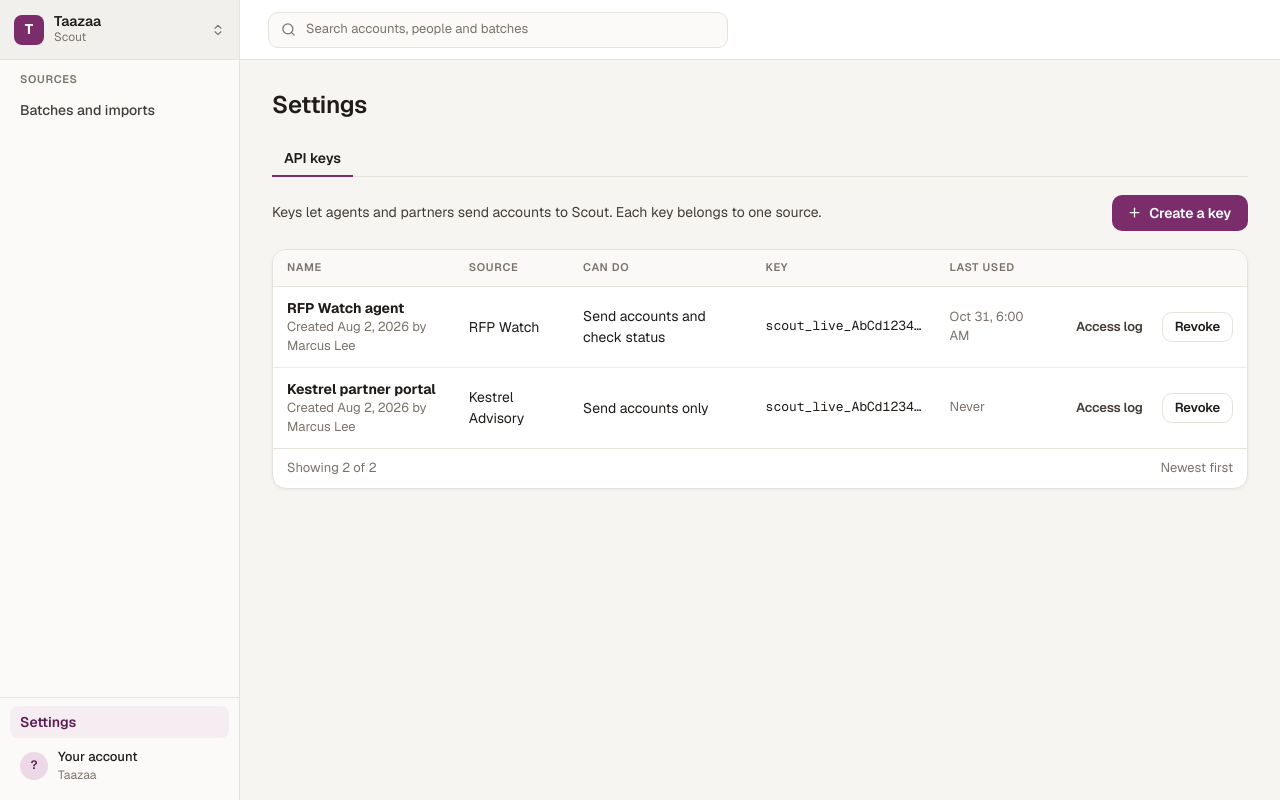
Scenario: revoke and access log › revokes after the confirm, and shows the failure
Click the button with aria-label "Revoke RFP Watch agent" at point(1197, 327), box [1162,312,1233,342]
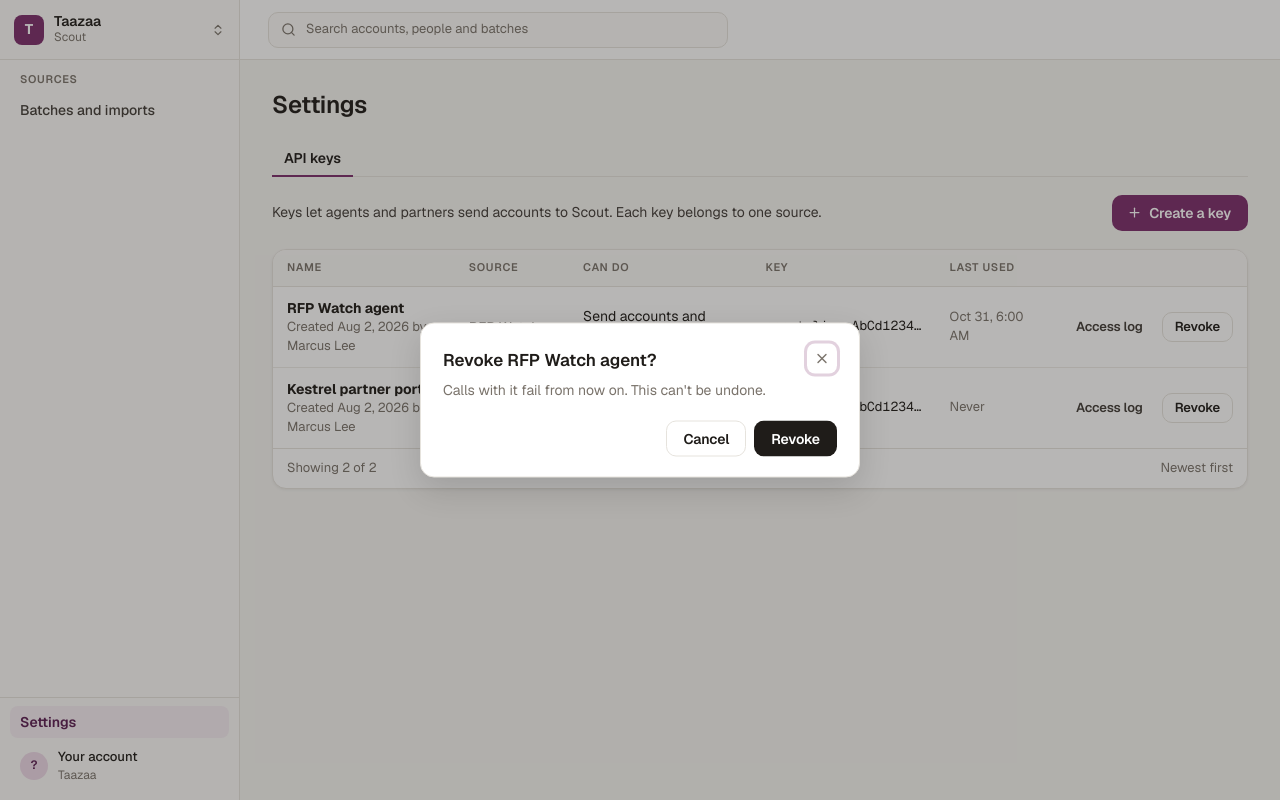
Click the button "Revoke" at point(796, 438), box [754,420,837,456]
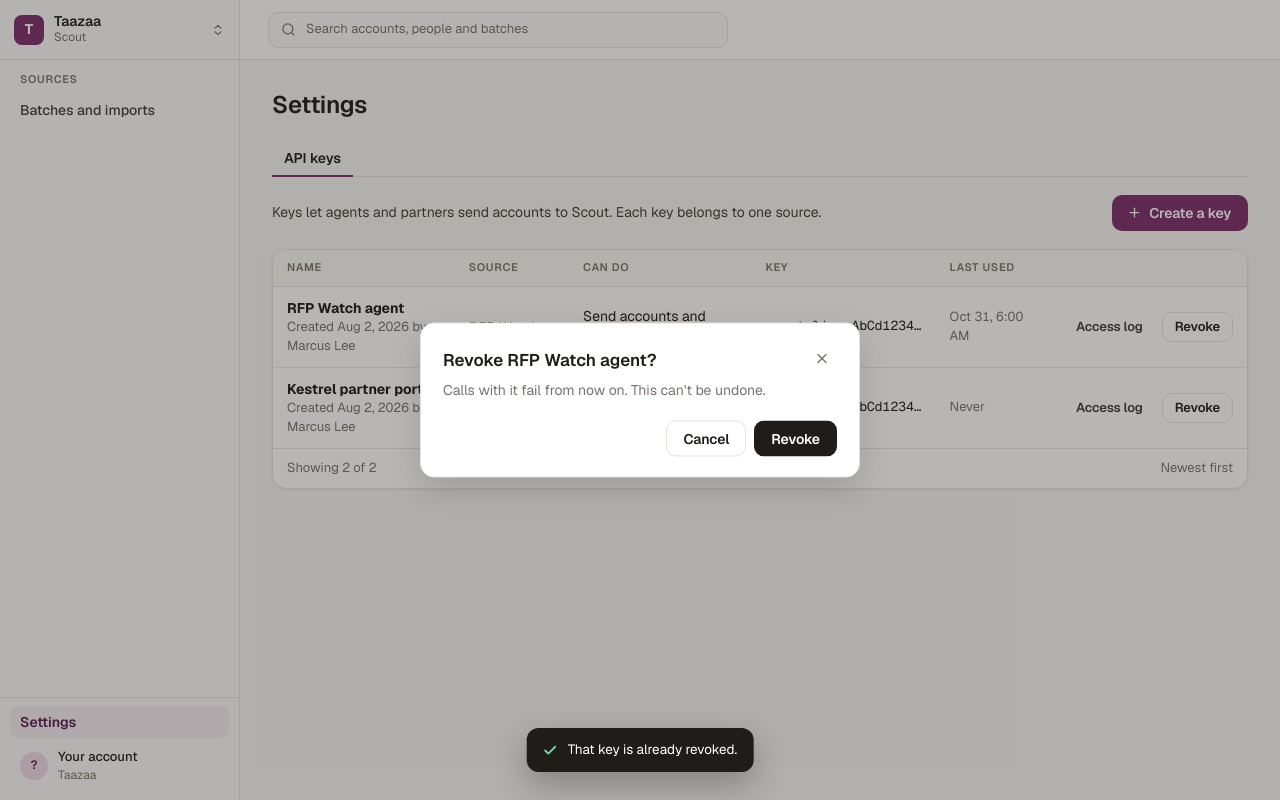
Now the text "That key is already revoked." is shown, box [568,740,737,760]
Click the button "Revoke" at point(796, 438), box [754,420,837,456]
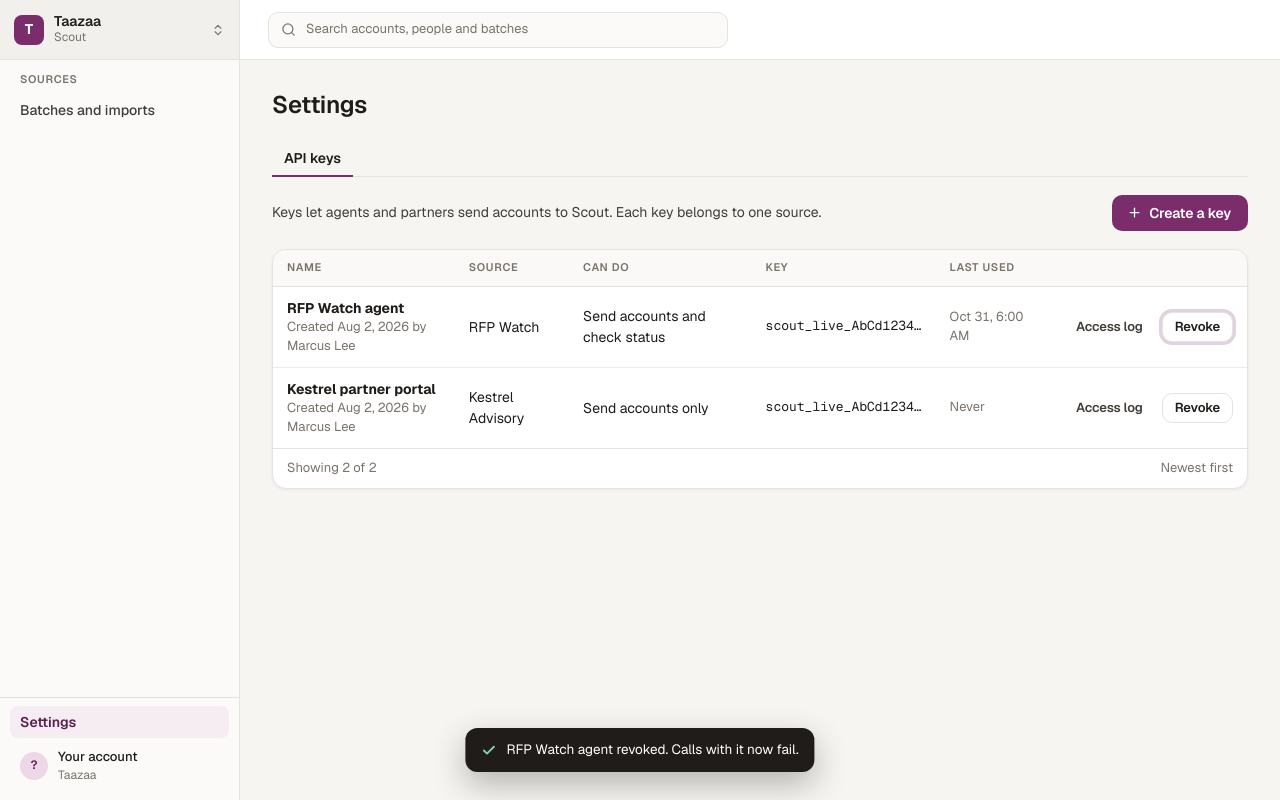
Now the text "RFP Watch agent revoked. Calls with it now fail." is shown, box [506,740,799,760]
Now the dialog is gone
